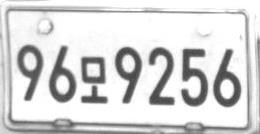2: (148, 46, 174, 105)
5: (180, 48, 208, 107)
6: (48, 45, 77, 103), (213, 49, 241, 107)
9: (114, 46, 143, 104), (16, 43, 43, 101)
모: (80, 56, 107, 104)
